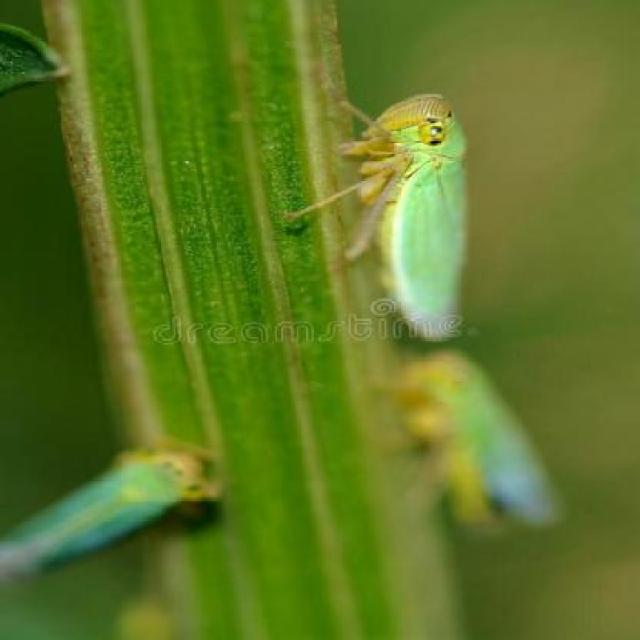green-leafhopper: (335, 90, 487, 348), (13, 428, 207, 582), (407, 352, 533, 536)
